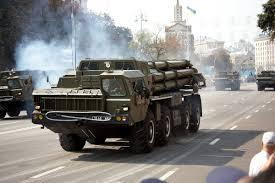MIL_SAM_TEL: (31, 56, 208, 156)
